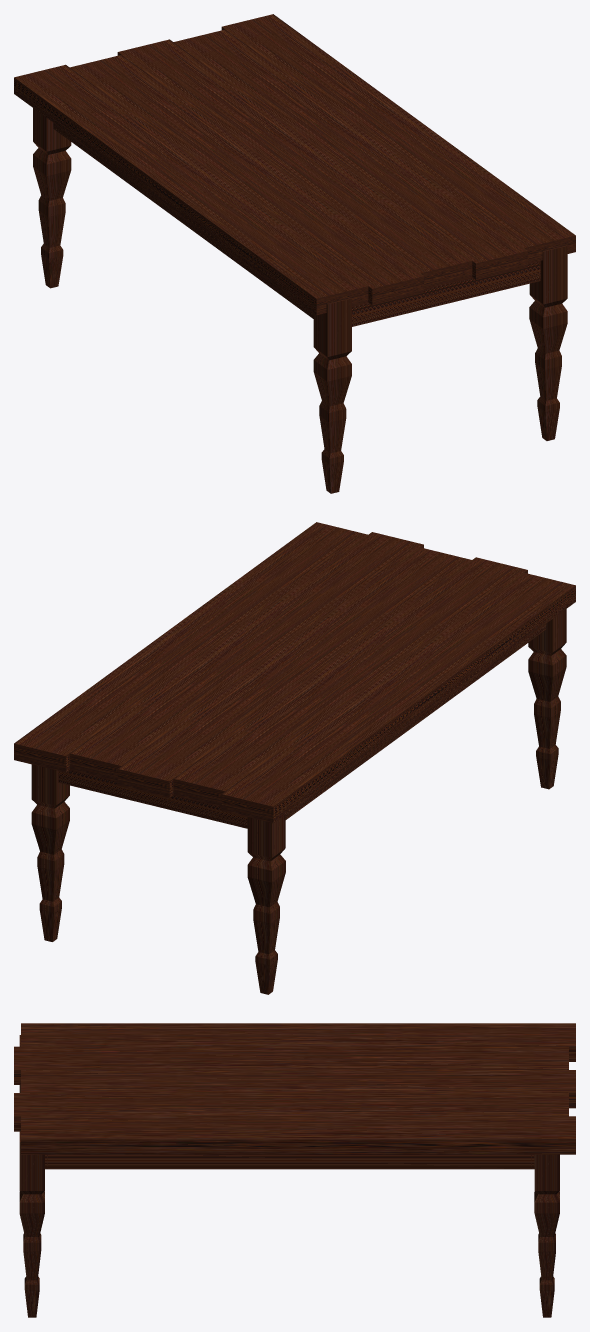
Rendered from SM_Prop_Table_01.fbx.
3 views of the same model, one above another, from view 1: azimuth 30°, elevation 25°; view 2: azimuth 150°, elevation 25°; view 3: azimuth 270°, elevation 25° (orthographic). The views are drawn at different scales.
Parts seen in each view (by area): view 1: Cube.003, Cube.002, Cube, Cube.001, Cube.009, Cube.004, Cube.008, Cube.006, Cube.005; view 2: Cube.003, Cube.001, Cube.009, Cube.002, Cube, Cube.005, Cube.007, Cube.008, Cube.004; view 3: Cube.009, Cube, Cube.002, Cube.003, Cube.001, Cube.008, Cube.006, Cube.007.
Part boxes in pixels (<box>): Cube.003: <box>14,64,368,315</box>; Cube.002: <box>70,55,423,305</box>; Cube: <box>174,29,527,279</box>; Cube.001: <box>117,39,472,288</box>; Cube.009: <box>221,14,575,263</box>; Cube.004: <box>313,298,351,493</box>; Cube.008: <box>53,123,540,326</box>; Cube.006: <box>529,245,567,440</box>; Cube.005: <box>33,108,71,288</box>; Cube.003: <box>221,572,575,823</box>; Cube.001: <box>117,547,471,797</box>; Cube.009: <box>14,522,367,772</box>; Cube.002: <box>173,557,527,806</box>; Cube: <box>69,532,423,781</box>; Cube.005: <box>247,814,285,994</box>; Cube.007: <box>31,764,69,941</box>; Cube.008: <box>58,624,546,828</box>; Cube.004: <box>528,609,566,789</box>; Cube.009: <box>21,1116,575,1154</box>; Cube: <box>14,1093,568,1131</box>; Cube.002: <box>14,1046,568,1084</box>; Cube.003: <box>21,1023,575,1061</box>; Cube.001: <box>21,1070,575,1108</box>; Cube.008: <box>45,1154,534,1169</box>; Cube.006: <box>19,1131,44,1317</box>; Cube.007: <box>534,1154,559,1317</box>.
Size of the model in its own units: 119 by 88.58 by 243.
